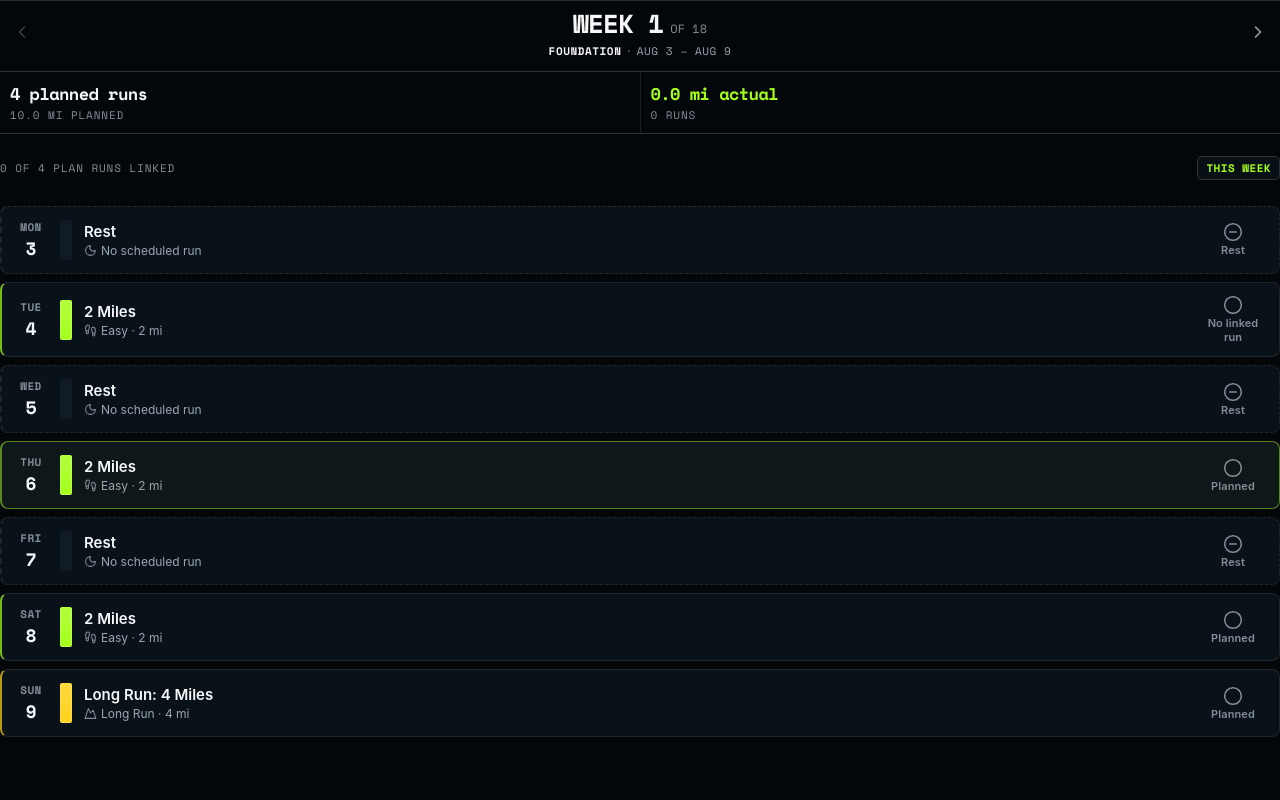
Test: adding a run to a rest day › opens a rest day straight into planning, with no detail step
Click the button with aria-label "Monday, August 3, Rest. Add a planned run": x=100, y=231 [2,207,1279,273]
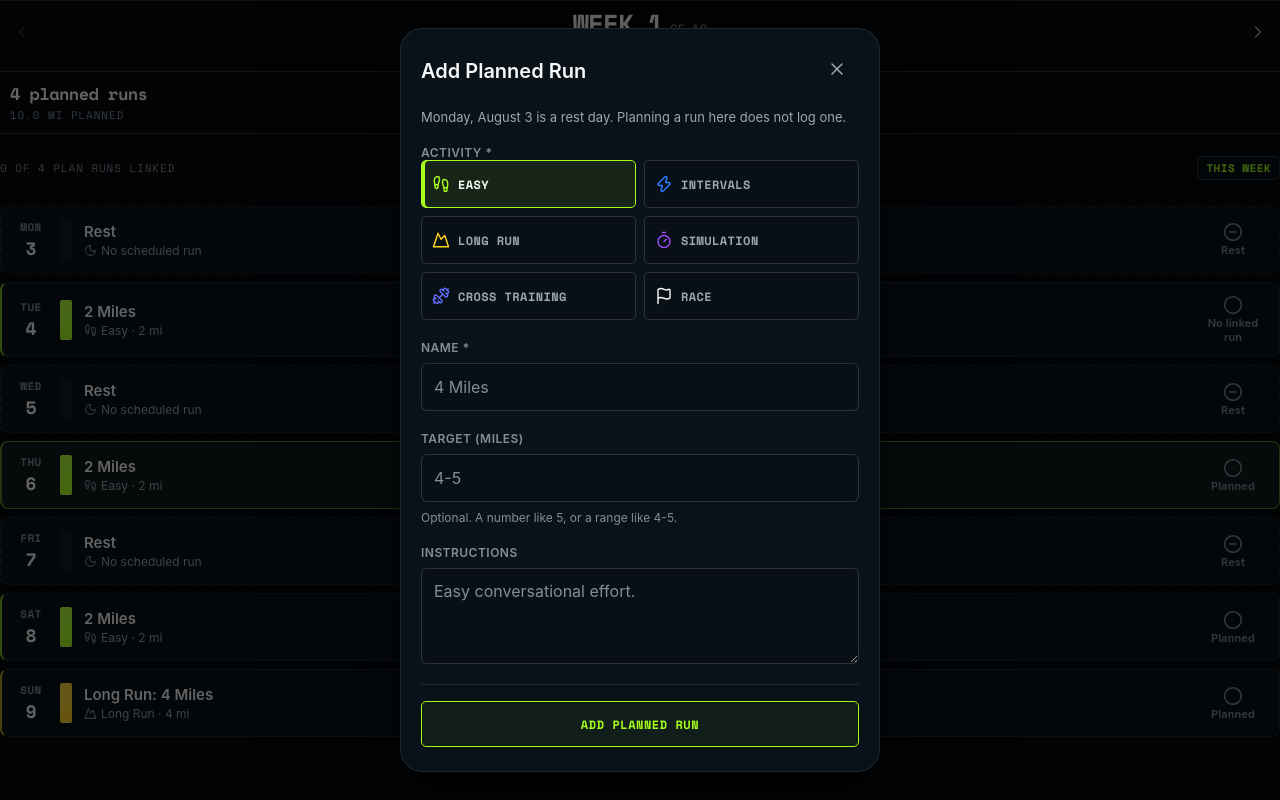
Now the number of dialogs is 1, box [400,28,880,772]
Now the text "is a rest day" is shown, box [532,109,846,125]
